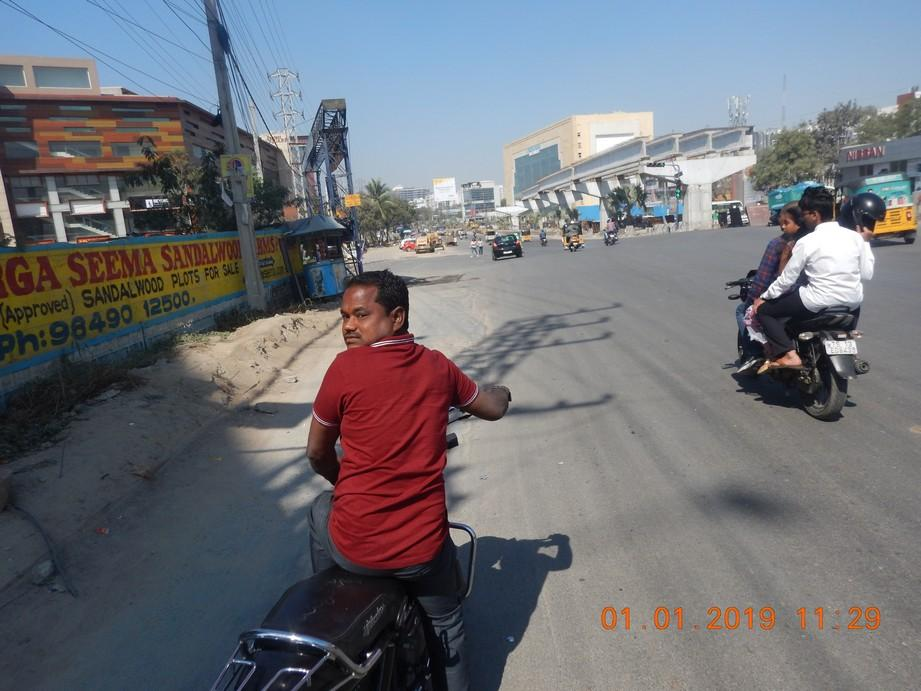plate: (821, 338, 862, 356)
